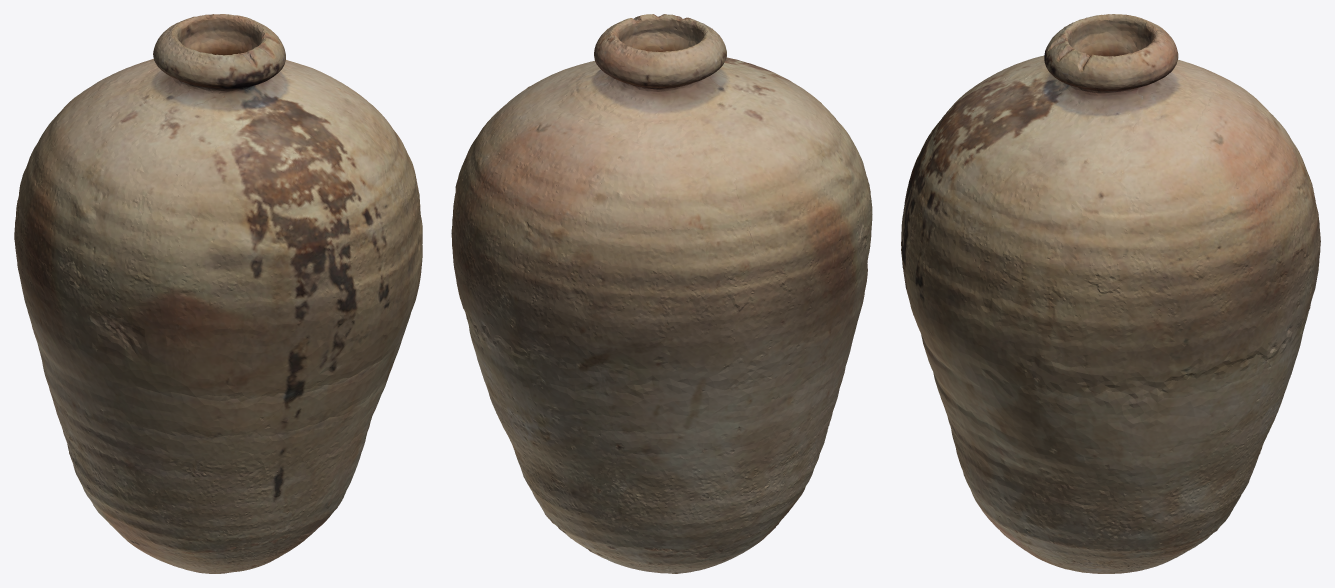
The model's file is asset.glb.
3 renders of one model, left to right at view 1: azimuth 30°, elevation 25°; view 2: azimuth 150°, elevation 25°; view 3: azimuth 270°, elevation 25°, orthographic.
Size of the model in its own units: 1.71 by 2.41 by 1.7.
1 material, 1 textured.
